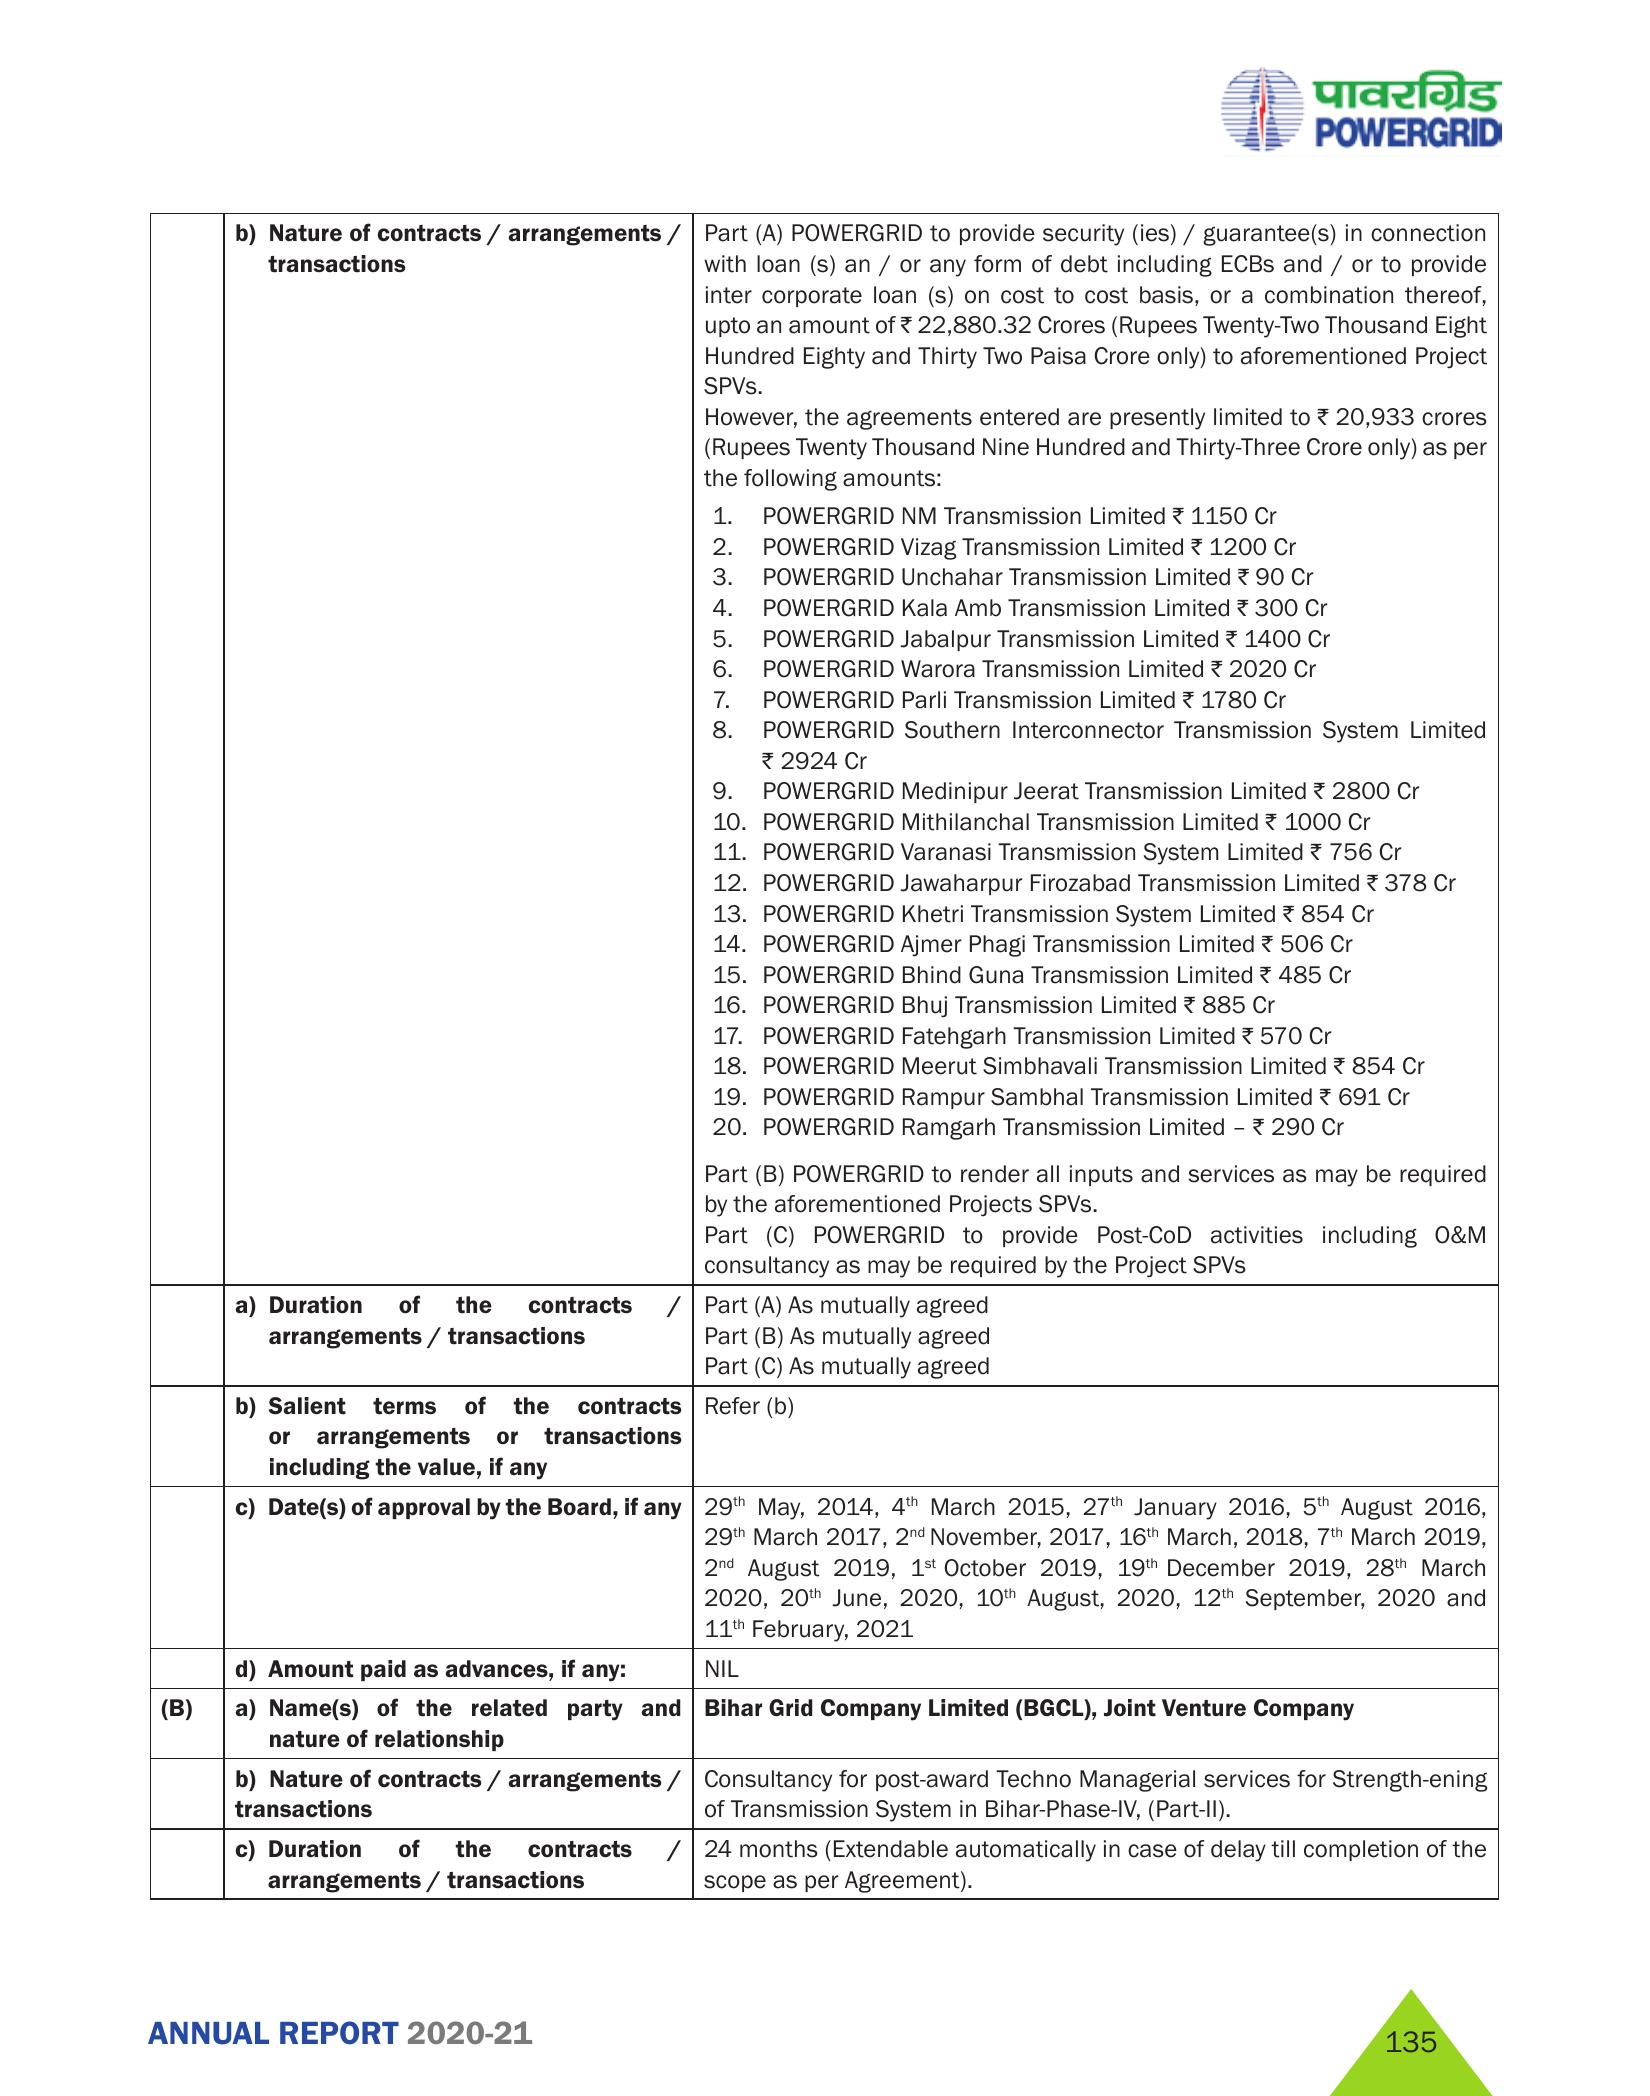Footer: (0, 1982, 1650, 2096)
Header: (0, 0, 1650, 168)
Table: (82, 196, 1539, 1900)
